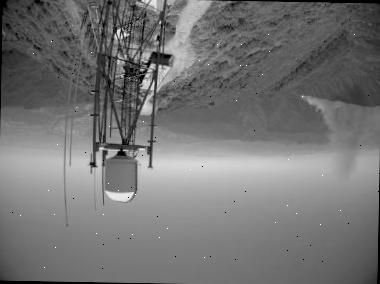smoke: (298, 94, 380, 184)
